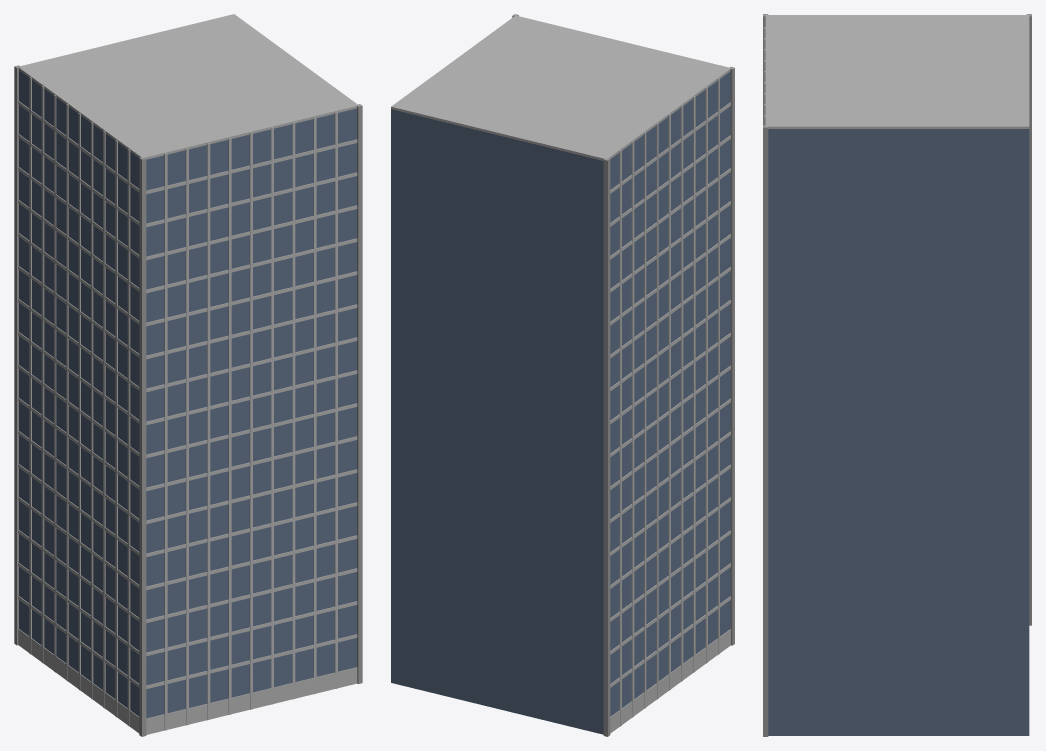
The model's file is House_03.fbx.
3 renders of one model, left to right at view 1: azimuth 30°, elevation 25°; view 2: azimuth 150°, elevation 25°; view 3: azimuth 270°, elevation 25°, orthographic. The views are drawn at different scales.
Visible parts, largest first — view 1: House_03; view 2: House_03; view 3: House_03.
Part boxes in pixels (x1,y1,x2,y2): House_03: (14,14,362,736); House_03: (391,14,734,736); House_03: (763,14,1031,736).
Bounding box in the file's own units: 3000 × 7500 × 3000.
